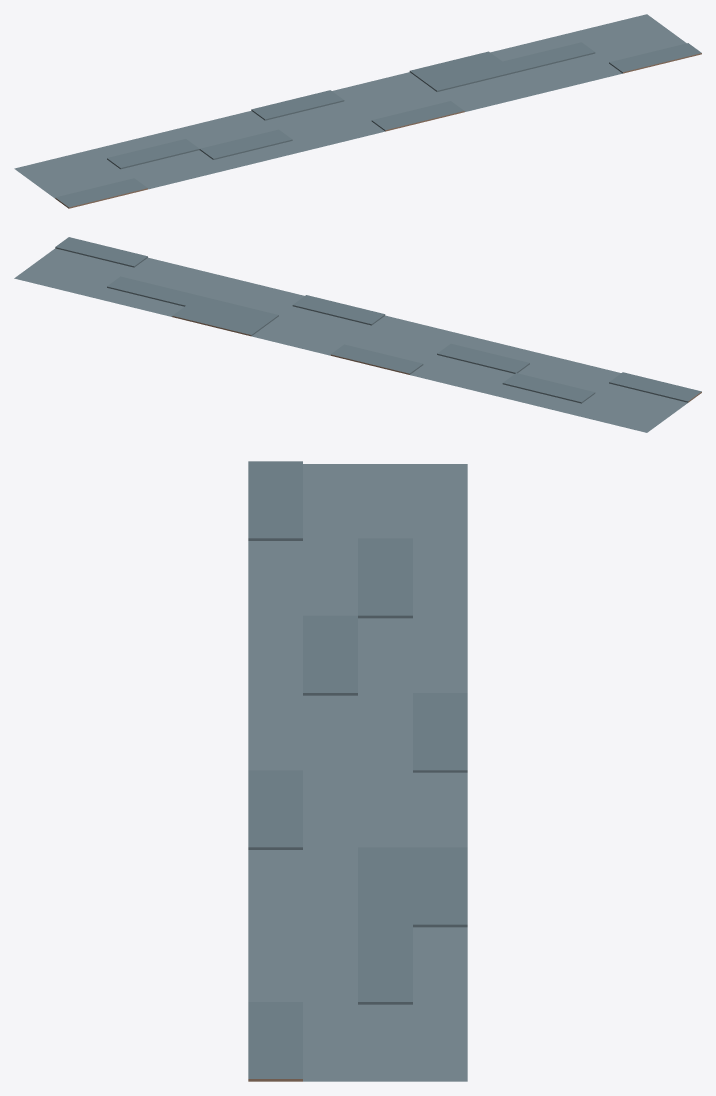
Rendered from Side_Way.fbx.
The picture shows the model from 3 angles, top to bottom: view 1: azimuth 30°, elevation 25°; view 2: azimuth 150°, elevation 25°; view 3: azimuth 270°, elevation 25°; orthographic projection. The views are drawn at different scales.
Parts seen in each view (by area): view 1: Side_Way; view 2: Side_Way; view 3: Side_Way.
Part boxes in pixels (<box>): Side_Way: <box>14,14,701,208</box>; Side_Way: <box>14,237,701,432</box>; Side_Way: <box>248,461,467,1081</box>.
Bounding box in the file's own units: 1500 × 3 × 225.
